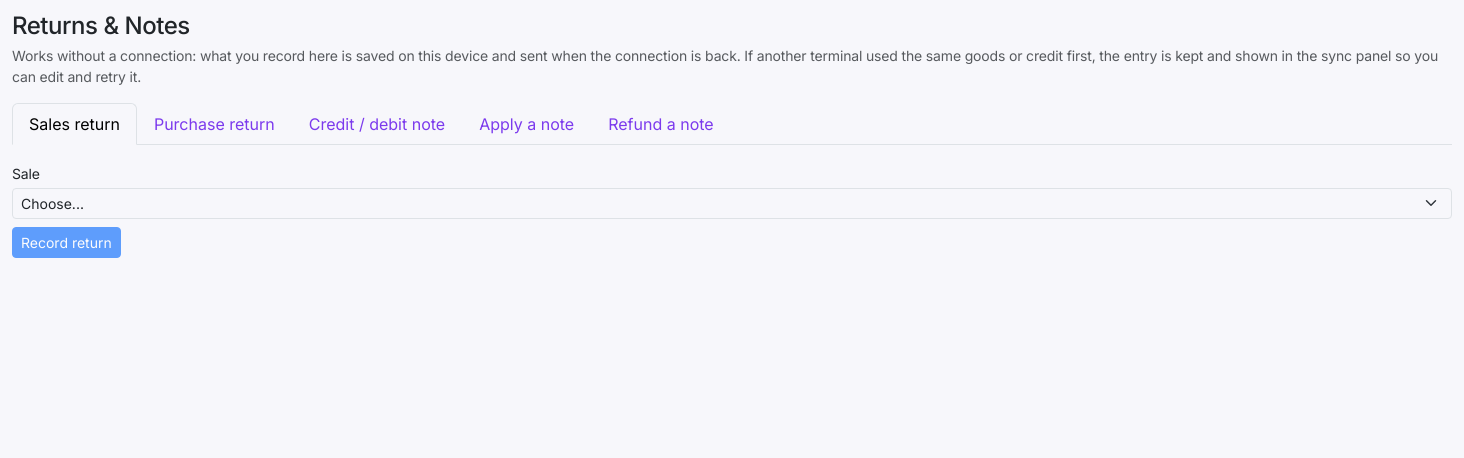
Test case: Returns & Notes (offline) › refuses a quantity above what can still be returned, and stores nothing
Select "INV-1 - Walk-in - Rs. 30.00" in the dropdown labelled "Sale" at (732, 203), box x1=12 y1=188 x2=1452 y2=219
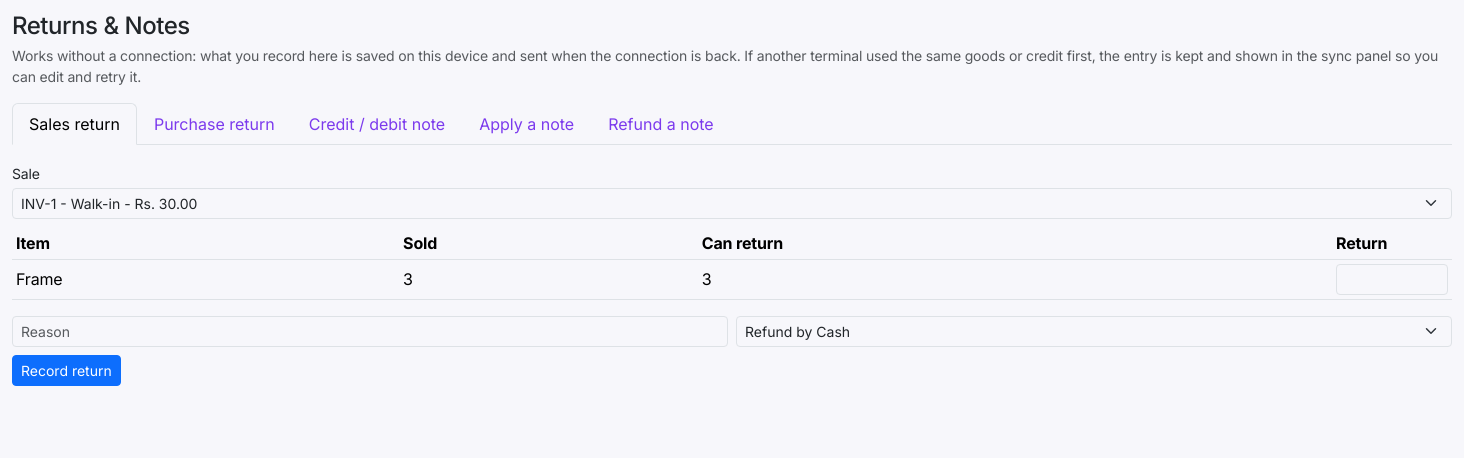
Type "9" into the number field named "Return Frame" at (1392, 279), box x1=1336 y1=264 x2=1448 y2=295
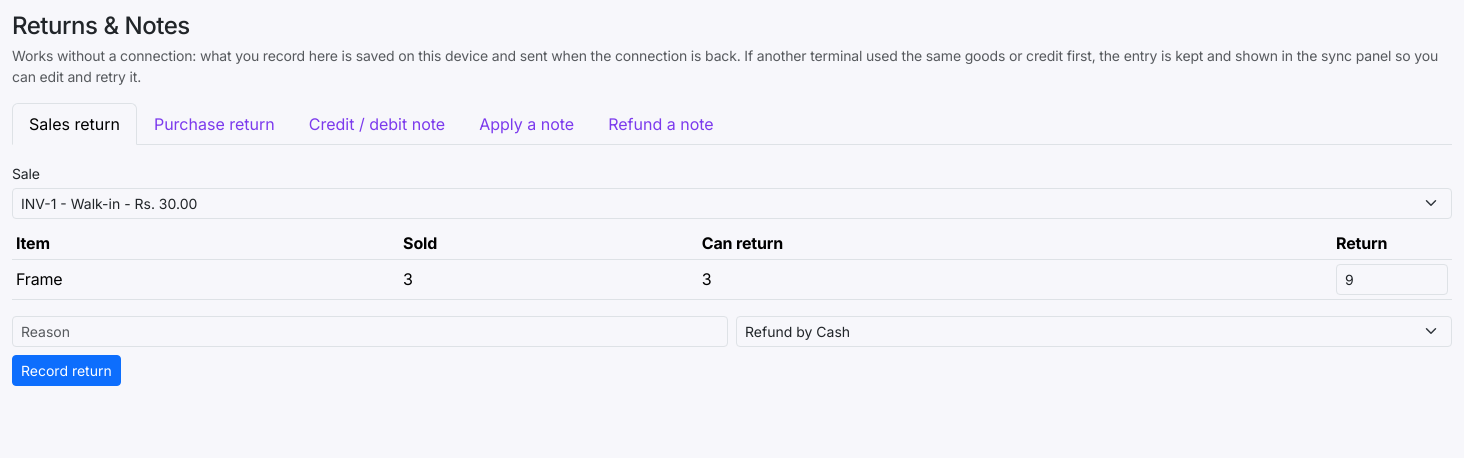
Click the button "Record return" at (66, 370), box x1=12 y1=355 x2=121 y2=386
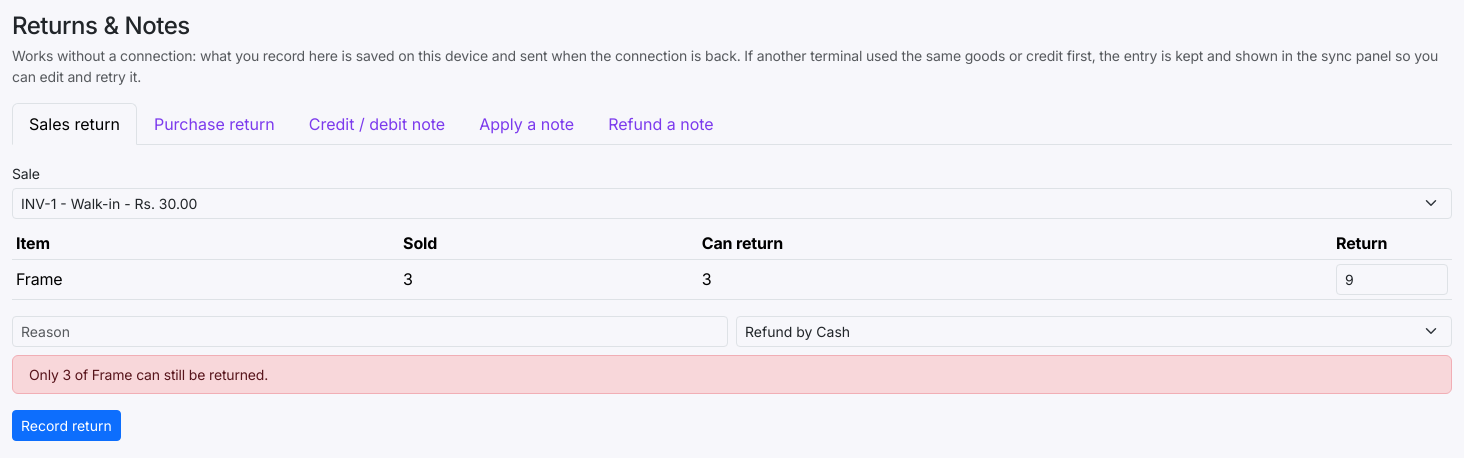
Expected: the message with test id "submit-result" shows "Only 3 of Frame can still be returned", x1=29 y1=366 x2=268 y2=383
